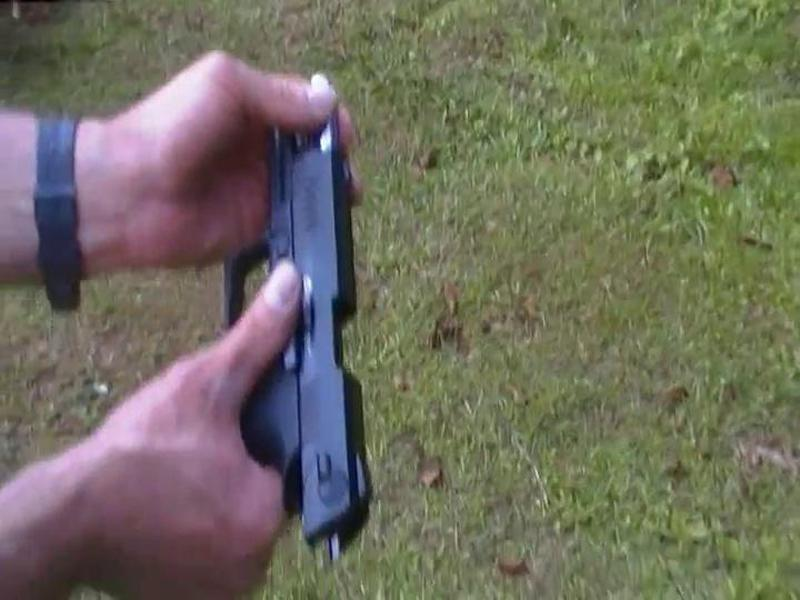Pistola: (123, 99, 380, 541)
